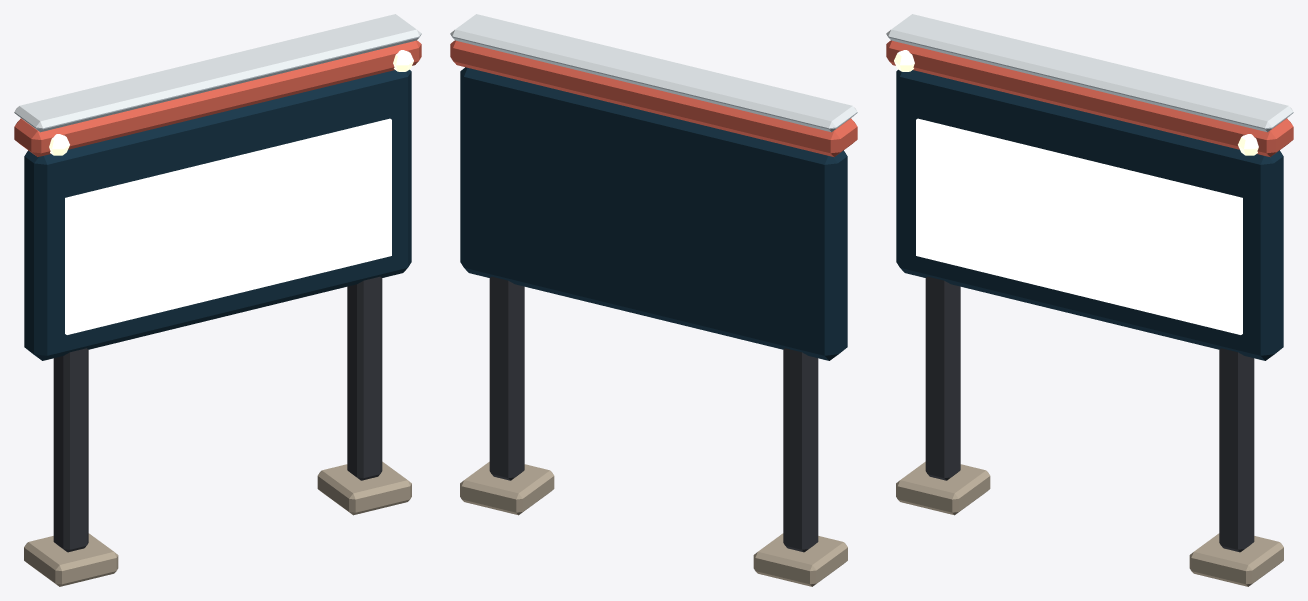
The model's file is scoreboard.glb.
3 renders of one model, left to right at view 1: azimuth 30°, elevation 25°; view 2: azimuth 150°, elevation 25°; view 3: azimuth 330°, elevation 25°, orthographic.
Parts seen in each view (by area): view 1: scoreboard; view 2: scoreboard; view 3: scoreboard.
Part boxes in pixels (<box>): scoreboard: <box>14,14,421,586</box>; scoreboard: <box>450,14,857,586</box>; scoreboard: <box>886,14,1293,586</box>.
Size of the model in its own units: 1.86 by 2.12 by 0.3.
